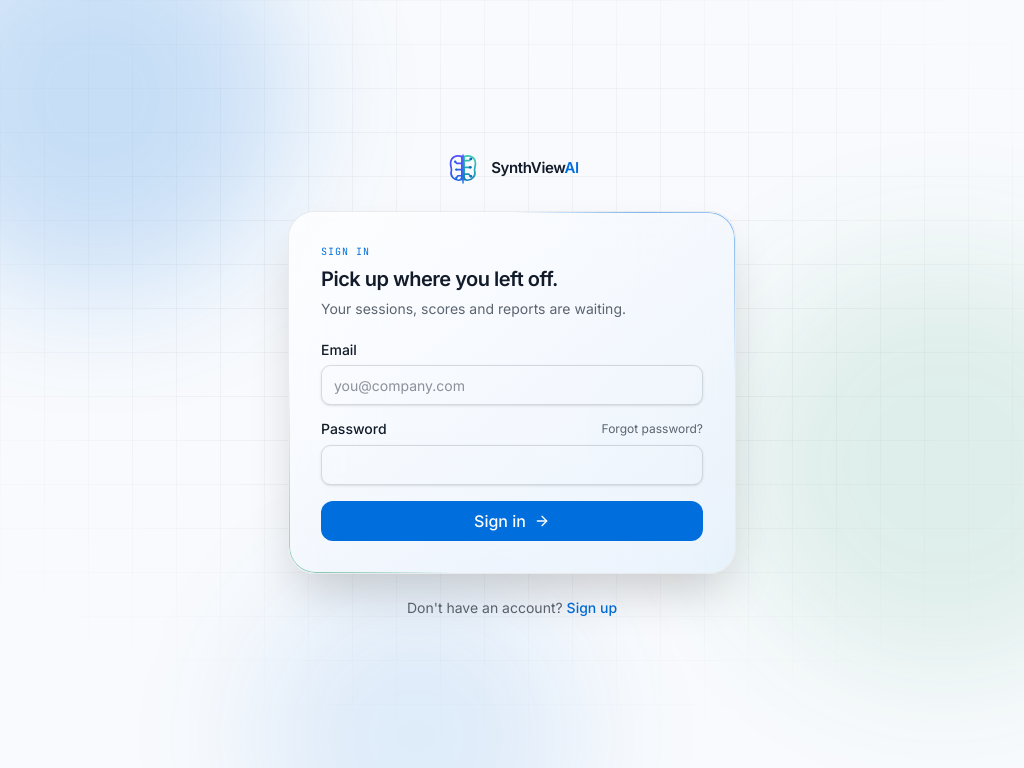
Test: Authentication Flow Integration › switches between the sign-in and sign-up panels
The width and height of the screenshot is (1024, 768).
Expected: the text "Don't have an account? Sign up" is shown, [407,598,617,618]
Click the button "Sign up".
click(592, 608)  # box [567,598,617,618]
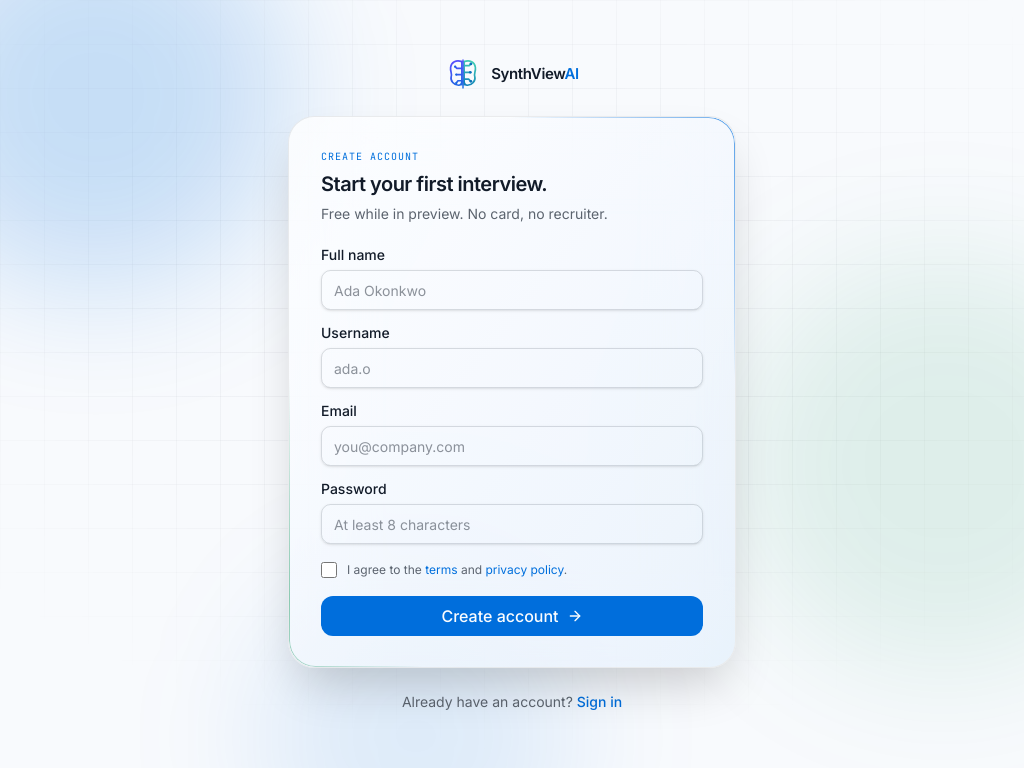
Result: the heading "Start your first interview." is shown at [321,172,547,196]
Result: the text "Already have an account? Sign in" is shown at [402,692,622,712]
